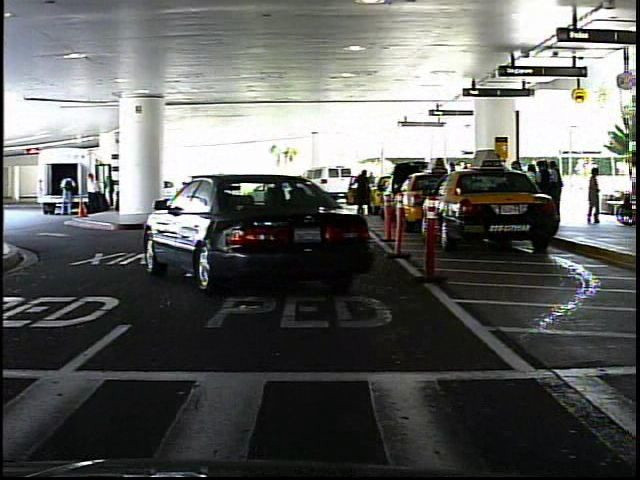person: (352, 165, 378, 221), (586, 163, 605, 227)
